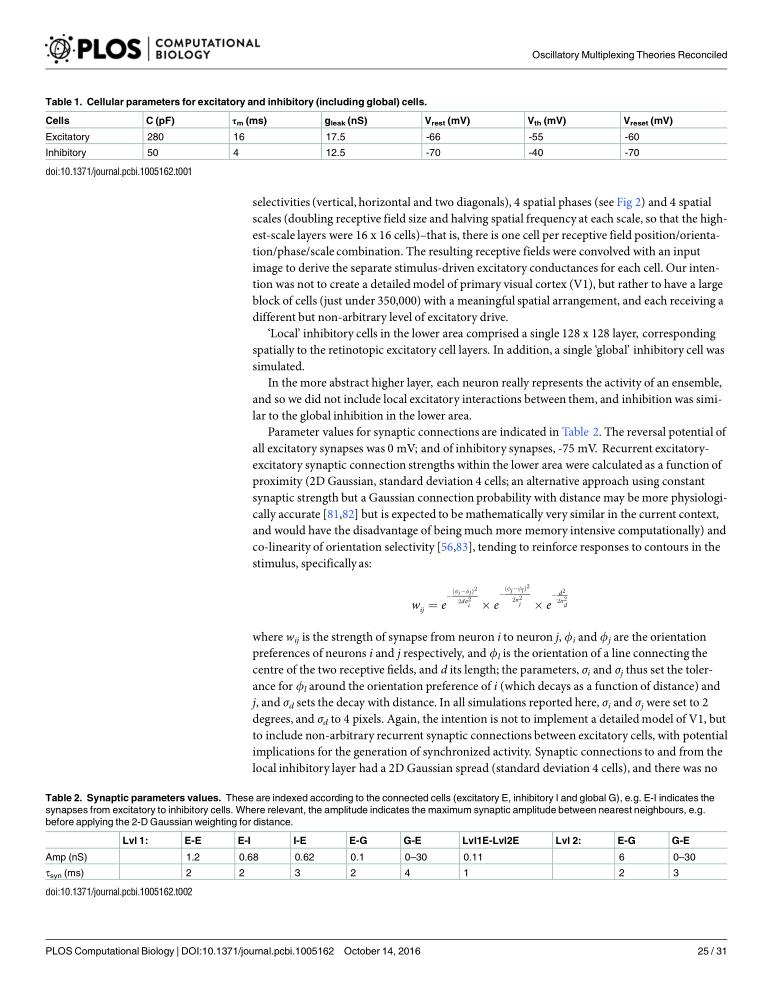table: (45, 836, 694, 879), (45, 114, 672, 158)
